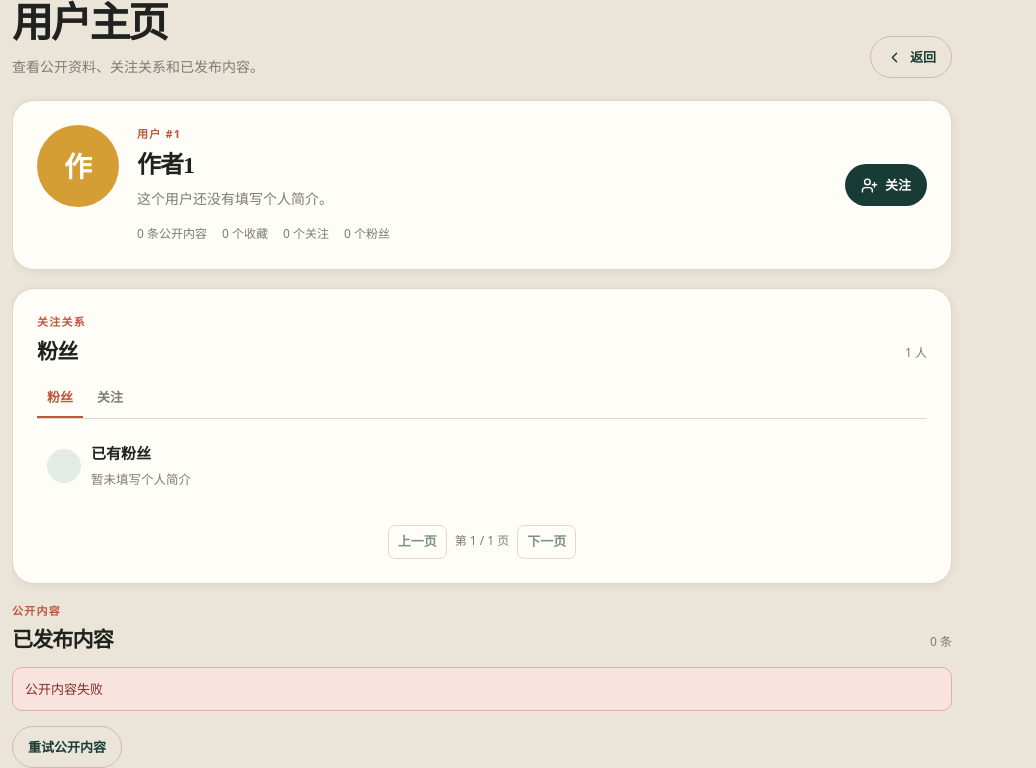
Scenario: 公开主页的分区状态 › retries only public content while retaining the profile and followers
(page scrolled)
What coordinates should you click on to do the following:
click the button "重试公开内容"
I would click on:
 (67, 748)
Its box is x1=12 y1=726 x2=122 y2=767.
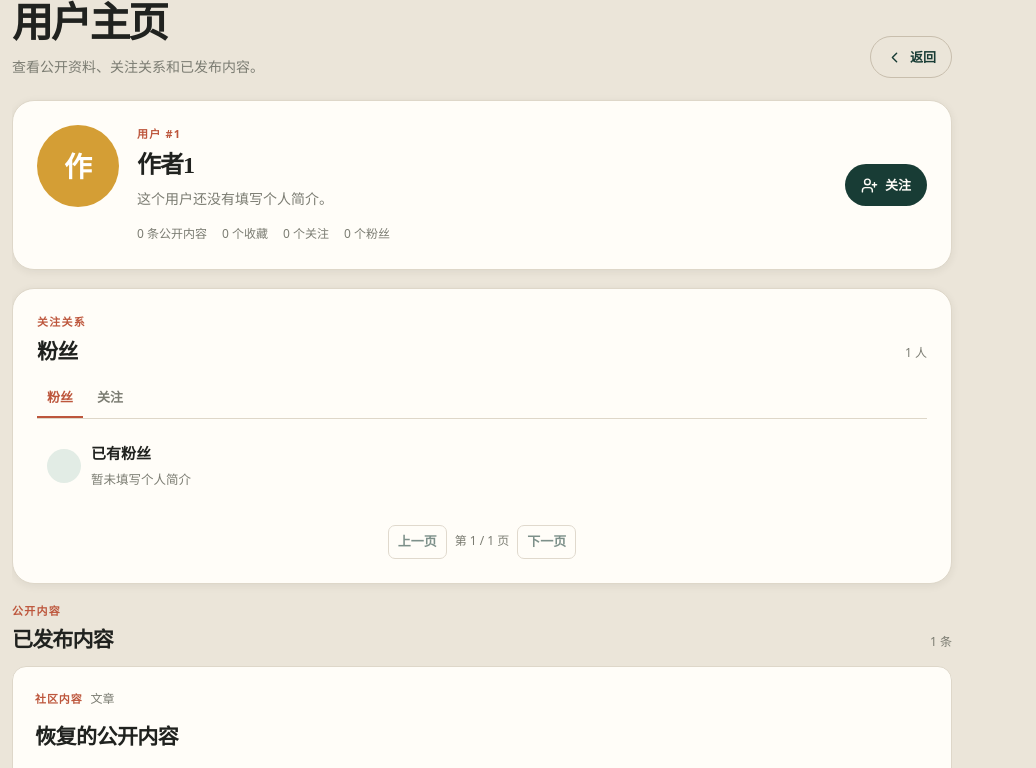
Expected: the link "恢复的公开内容" is shown, x1=35 y1=719 x2=178 y2=756
